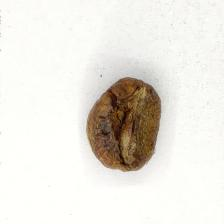NG: (92, 78, 151, 171)
